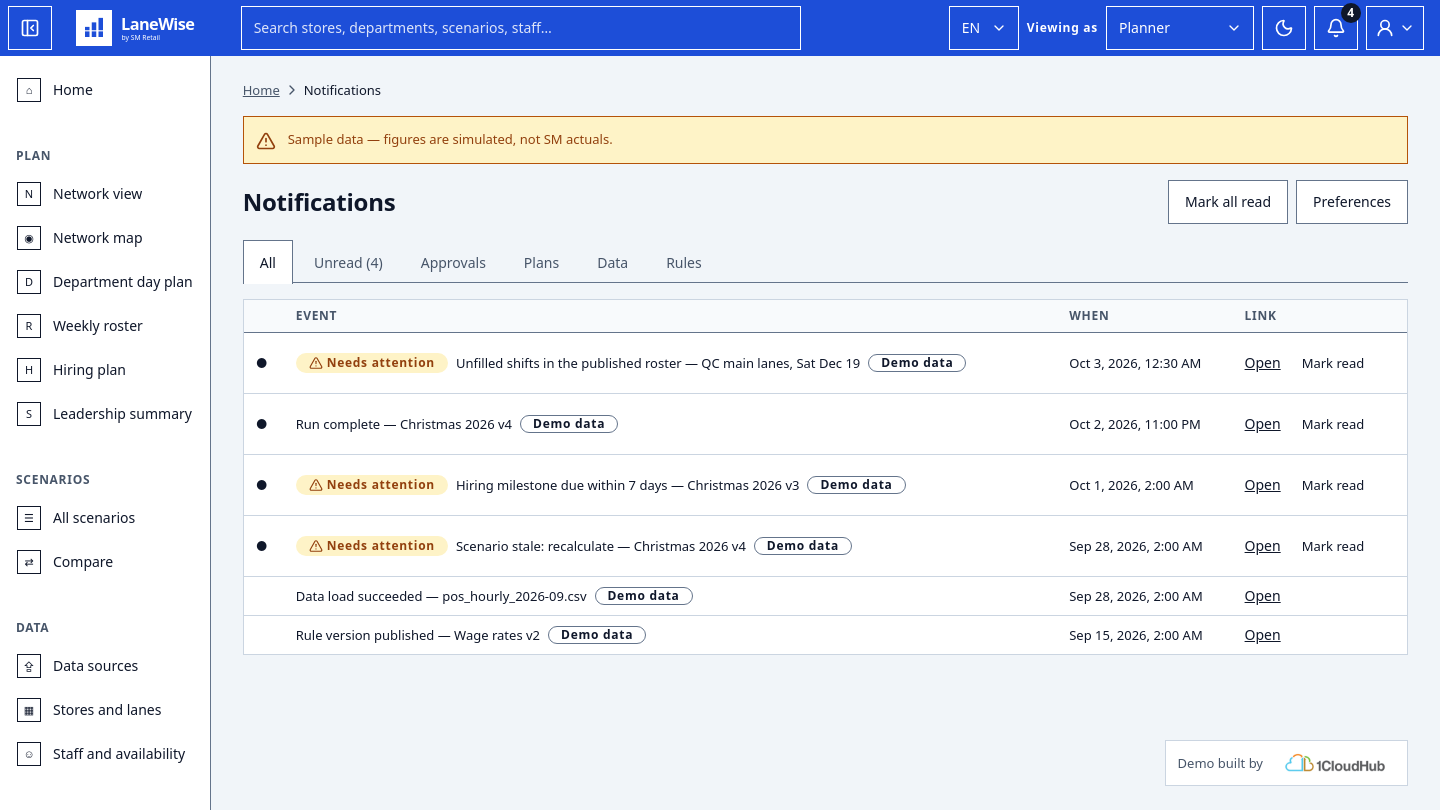
SCR-040 Notifications › lists the role’s notifications with filters, deep links and no axe violations
The width and height of the screenshot is (1440, 810).
Check: the heading "Notifications" is shown, box left=243, top=186, right=395, bottom=218
Check: the text "Run complete — Christmas 2026 v4" is shown, box left=296, top=414, right=512, bottom=434
Click the tab "Data" at (613, 262), box left=580, top=240, right=645, bottom=284
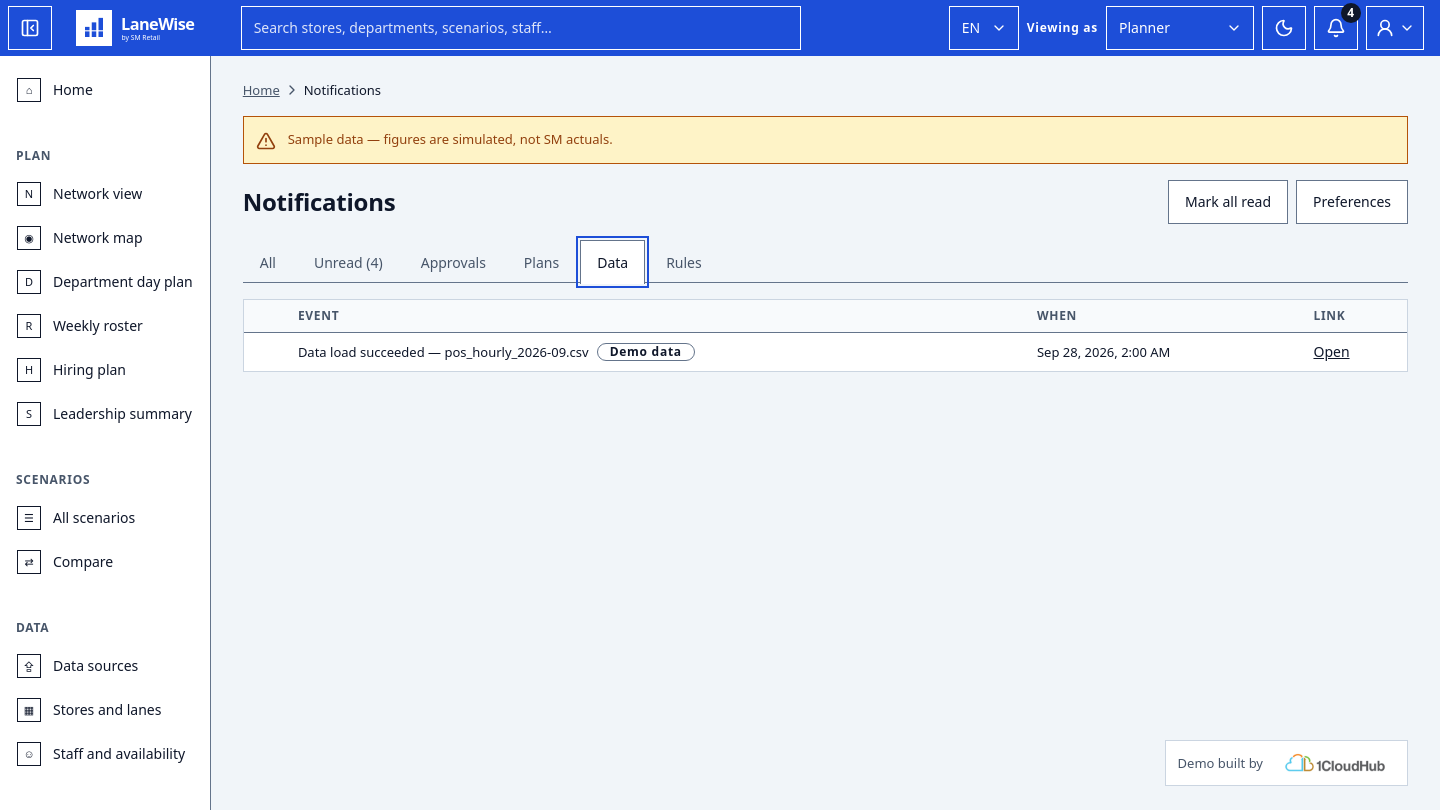
Check: the text "Data load succeeded — pos_hourly_2026-09.csv" is shown, box left=298, top=342, right=589, bottom=362
Check: the number of rows is 2, box left=244, top=300, right=1407, bottom=332; left=244, top=332, right=1407, bottom=371
